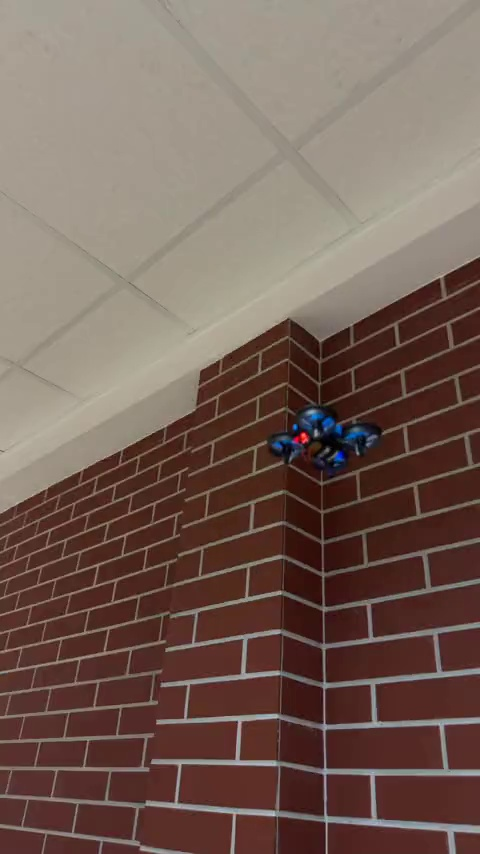drone: (271, 404, 375, 468)
